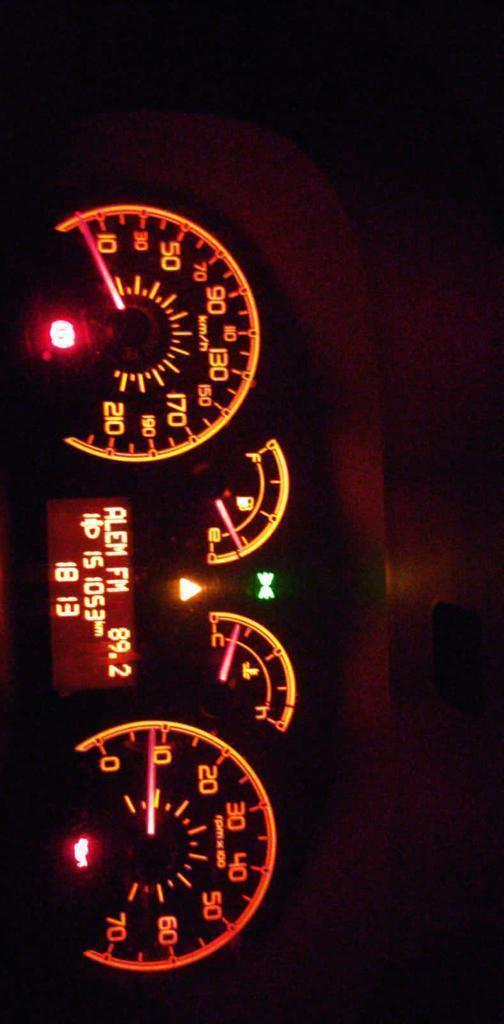,: (107, 652, 117, 659)
0: (83, 581, 104, 594)
1: (55, 595, 77, 602), (81, 511, 101, 518), (54, 561, 77, 567), (81, 550, 103, 555), (83, 576, 103, 581)
2: (107, 662, 132, 678)
3: (55, 603, 81, 616), (83, 608, 106, 620)
5: (82, 555, 104, 569), (83, 594, 105, 608)
8: (53, 567, 79, 582), (106, 627, 131, 639)
9: (107, 640, 132, 652)
X: (105, 579, 130, 592), (103, 506, 127, 519), (104, 543, 128, 556), (105, 566, 128, 579), (104, 531, 128, 543), (103, 519, 127, 530), (93, 626, 103, 636), (93, 620, 105, 626)
odometer: (41, 490, 147, 697)
